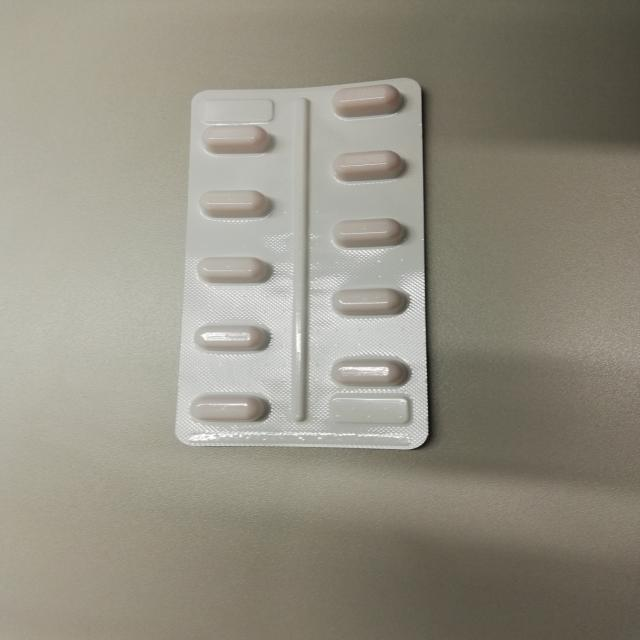Pill: (315, 276, 420, 325), (309, 349, 419, 393), (191, 247, 283, 292), (322, 79, 417, 122), (321, 144, 418, 185), (182, 386, 270, 429), (322, 214, 415, 254), (191, 119, 283, 157), (191, 184, 281, 222), (183, 321, 280, 354)
